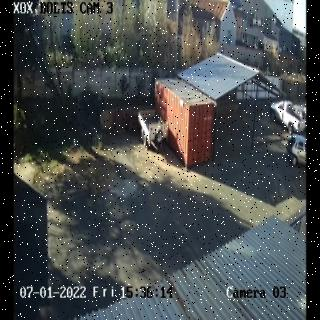car: (269, 98, 305, 133), (285, 131, 305, 169)
